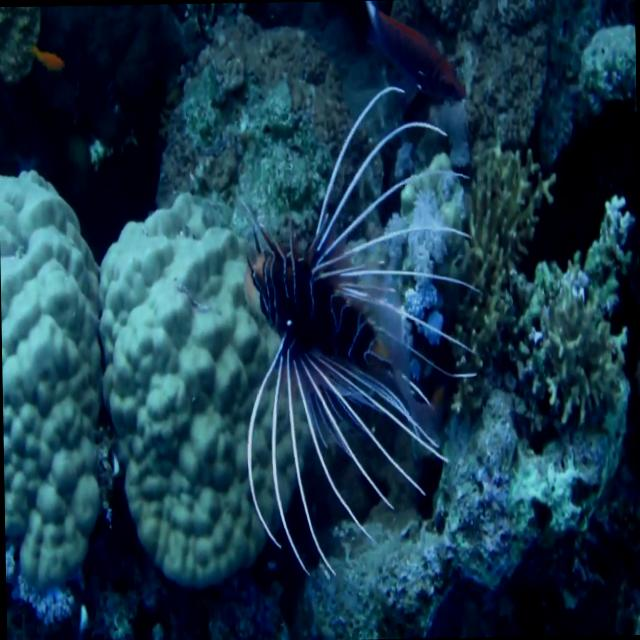Aslan Baligi: (235, 79, 486, 580)
